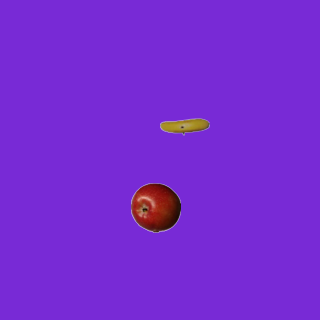Apple Braeburn: (130, 182, 180, 232)
Banana: (159, 101, 209, 151)
